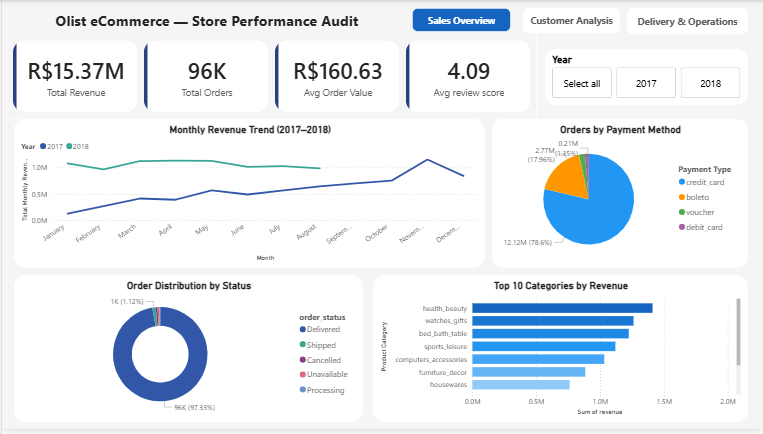

This screenshot's page, from the dashboard's own definition file:
{"tool":"powerbi","page":{"name":"Sales Overview","canvas":[1280,720],"ordinal":0},"visuals":[{"type":"textbox","box":[0,13.4,688.7,57.1],"z":0},{"type":"cardVisual","fields":{"Data":["query1_monthly_revenue.Total Revenue","Sum(query1_monthly_revenue.total_orders)","query1_monthly_revenue.Avg Order Value","query5_review_vs_delay.Avg review score"]},"box":[8.4,57.1,892,142.8],"z":1000},{"type":"lineChart","title":"Monthly Revenue Trend (2017–2018)","fields":{"Y":["Sum(query1_monthly_revenue.monthly_revenue)"],"Series":["query1_monthly_revenue.order_year"],"Category":["query1_monthly_revenue.order_month_name.Variation.Date Hierarchy.Month"]},"box":[20.2,199.9,791.2,250.3],"z":2000},{"type":"clusteredBarChart","title":"Top 10 Categories by Revenue","fields":{"Category":["query2_category_revenue.product_category"],"Y":["Sum(query2_category_revenue.revenue)"]},"box":[623.2,461.9,629.9,246.9],"z":3000},{"type":"donutChart","title":"Order Distribution by Status","fields":{"Category":["Table.order_status"],"Y":["Sum(Table.order_count)"]},"box":[20.2,461.9,586.2,246.9],"z":4000},{"type":"pieChart","title":"Orders by Payment Method","fields":{"Category":["query6_payment_analysis.payment_type"],"Y":["Sum(query6_payment_analysis.total_revenue)"]},"box":[823.1,199.9,430,250.3],"z":5000},{"type":"advancedSlicerVisual","title":"Year","fields":{"Values":["query1_monthly_revenue.order_year"]},"box":[912.1,82.3,341,94.1],"z":6000},{"type":"actionButton","title":"Sales Overview","box":[688.7,13.4,166.3,40.3],"z":7000},{"type":"actionButton","box":[875.2,13.4,162.9,42],"z":8000},{"type":"actionButton","box":[1049.9,13.4,203.3,43.7],"z":9000}]}

Visuals, with their boxes in screenshot pixels (x1, y1, x2, y2), scaled from the page's 1280x720 canvas onto the 763x434 screenshot:
textbox: select_region(0, 8, 411, 42)
cardVisual - query1_monthly_revenue.Total Revenue x Sum(query1_monthly_revenue.total_orders): select_region(5, 34, 537, 120)
"Monthly Revenue Trend (2017–2018)" lineChart: select_region(12, 120, 484, 271)
"Top 10 Categories by Revenue" clusteredBarChart: select_region(371, 278, 747, 427)
"Order Distribution by Status" donutChart: select_region(12, 278, 361, 427)
"Orders by Payment Method" pieChart: select_region(491, 120, 747, 271)
"Year" advancedSlicerVisual: select_region(544, 50, 747, 106)
"Sales Overview" actionButton: select_region(411, 8, 510, 32)
actionButton: select_region(522, 8, 619, 33)
actionButton: select_region(626, 8, 747, 34)
